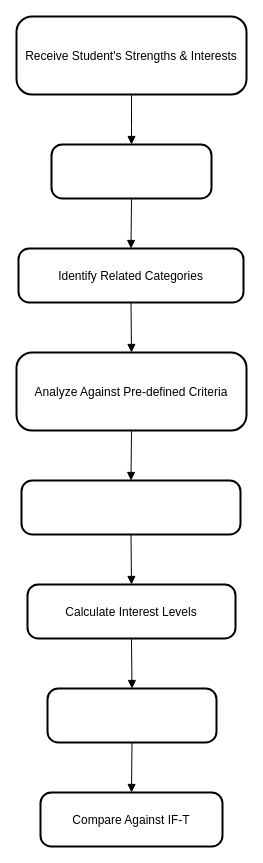
Image size: 263x863. Some labels were removed from this diagram. Each missing label, with the box of its shape:
Consolidate Results: (46, 687, 217, 743)
Extract Key Points: (50, 143, 212, 199)
Generate Strengths Scores: (20, 479, 241, 535)
